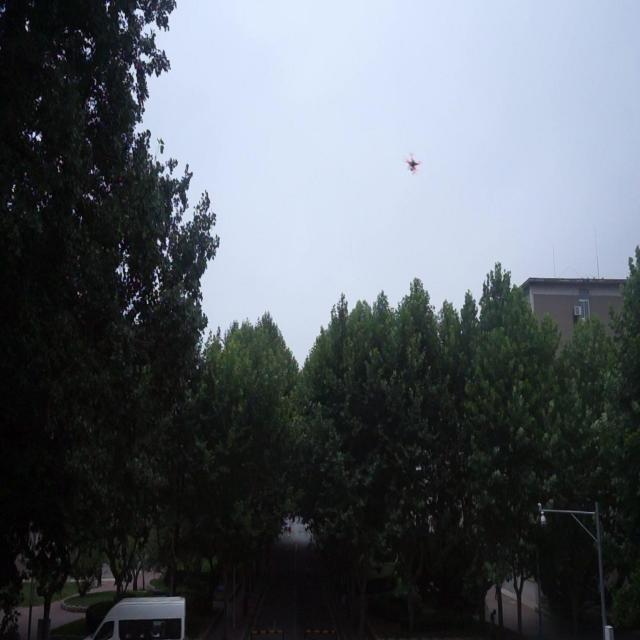UAV: (405, 153, 421, 175)
